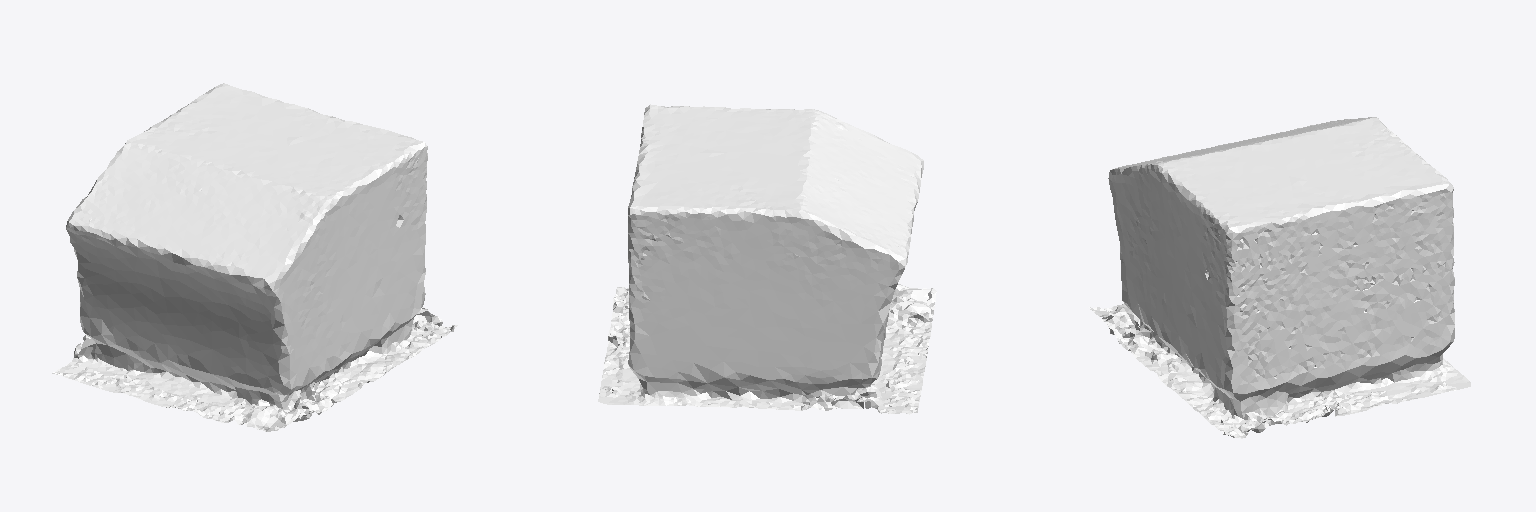
Rendered from Scanned Quoting Stone.obj.
3 renders of one model, left to right at view 1: azimuth 30°, elevation 25°; view 2: azimuth 150°, elevation 25°; view 3: azimuth 270°, elevation 25°, orthographic.
Size of the model in its own units: 2.64 by 1.42 by 2.47.